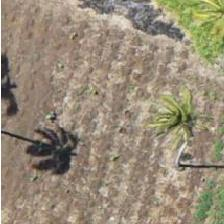coconut_tree: (137, 118, 223, 208)
